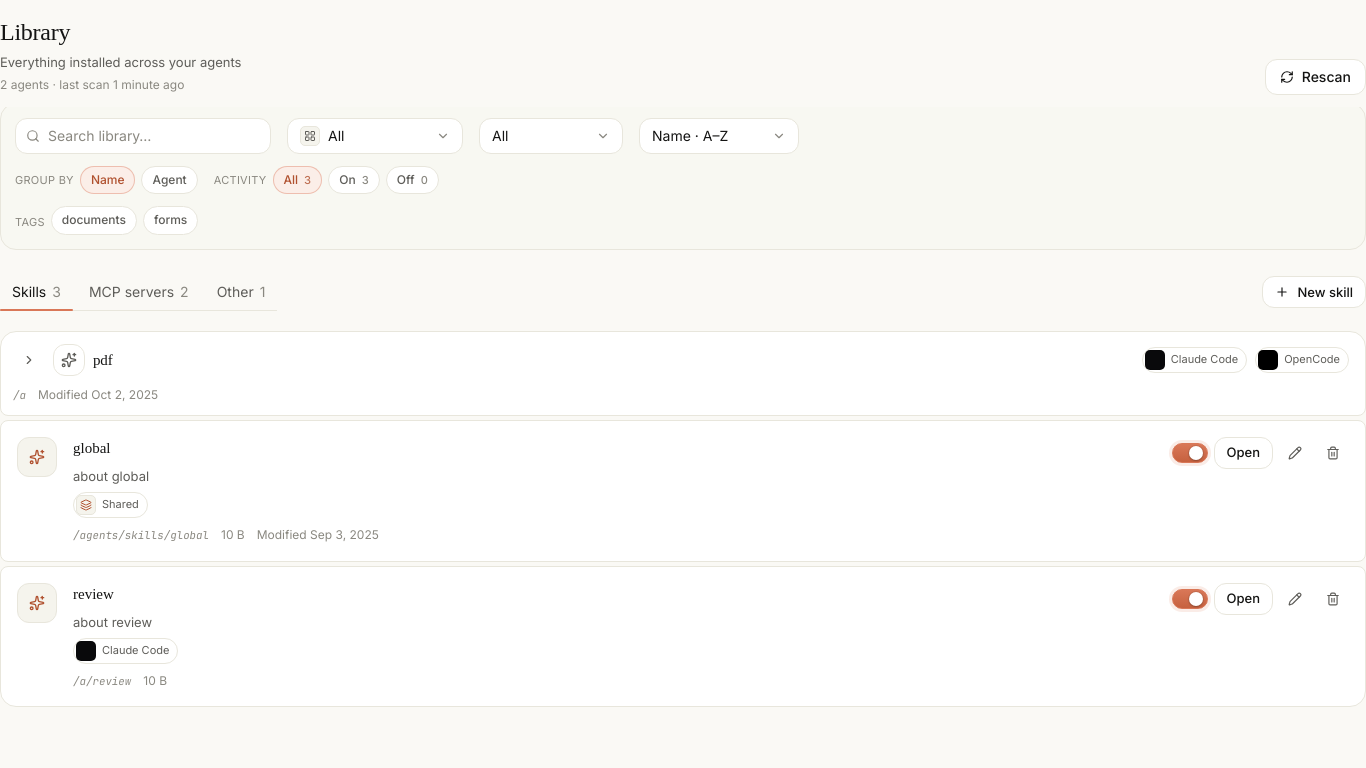
LibraryPage › heads a shared name and leaves a one-agent name in the plain list
Expected: the heading "pdf" is shown, [93,350,112,369]
Expected: the number of buttons "review" is 1, [17,582,178,688]
Click the button named "Expand pdf": (29, 360) [13,344,45,376]
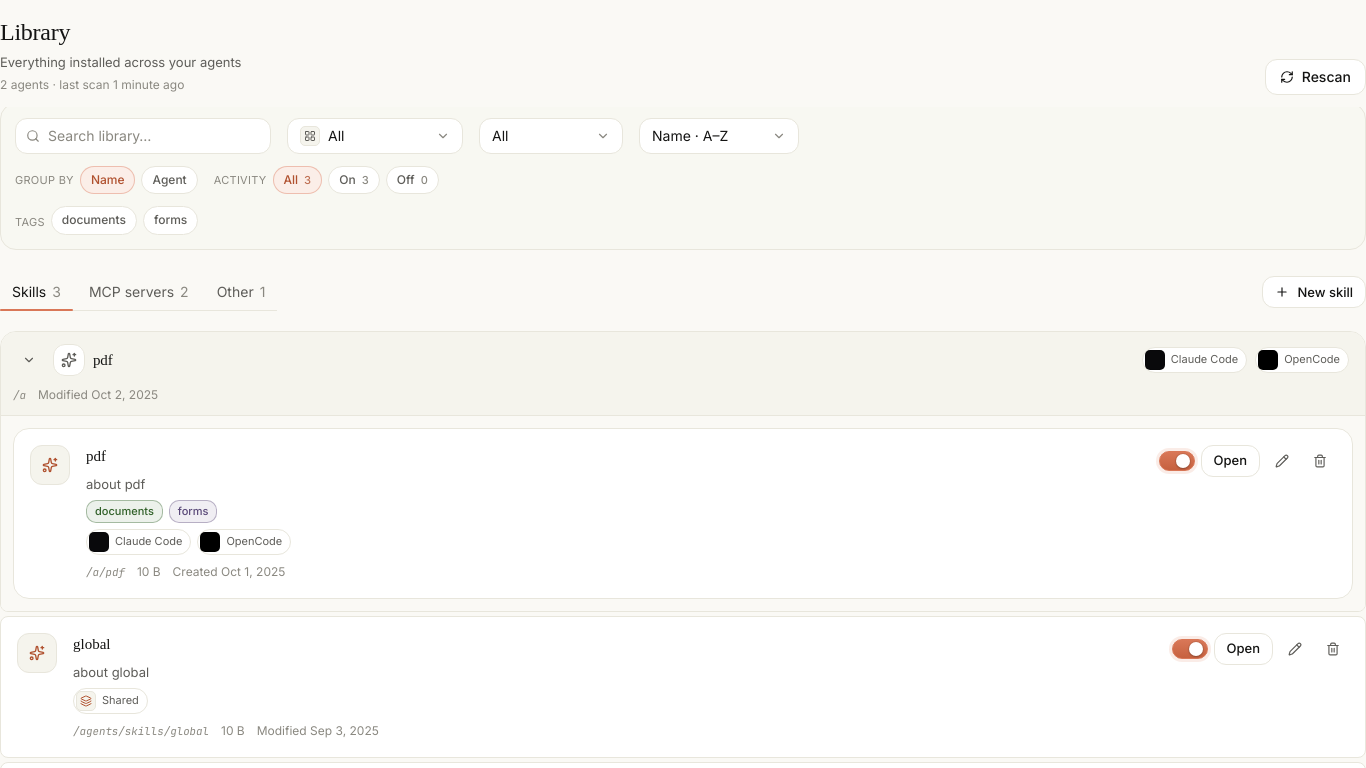
Expected: the text "Claude Code" is shown, [86,529,191,555]
Expected: the text "OpenCode" is shown, [197,529,291,555]
